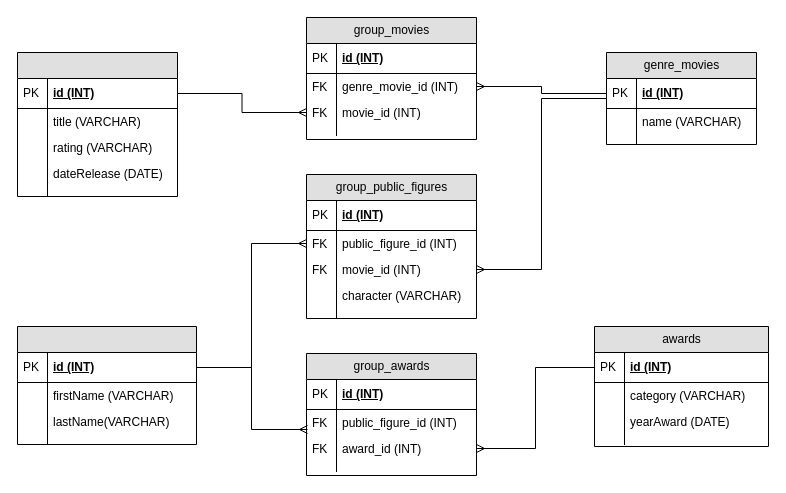
Some shapes in this 786 by 493 pixel diagram are drawn without their labels. Here are the shapes that lost their labels. From the top down, the box of each, then its label:
(16, 52, 178, 196): movies
(16, 326, 196, 444): public_figures
